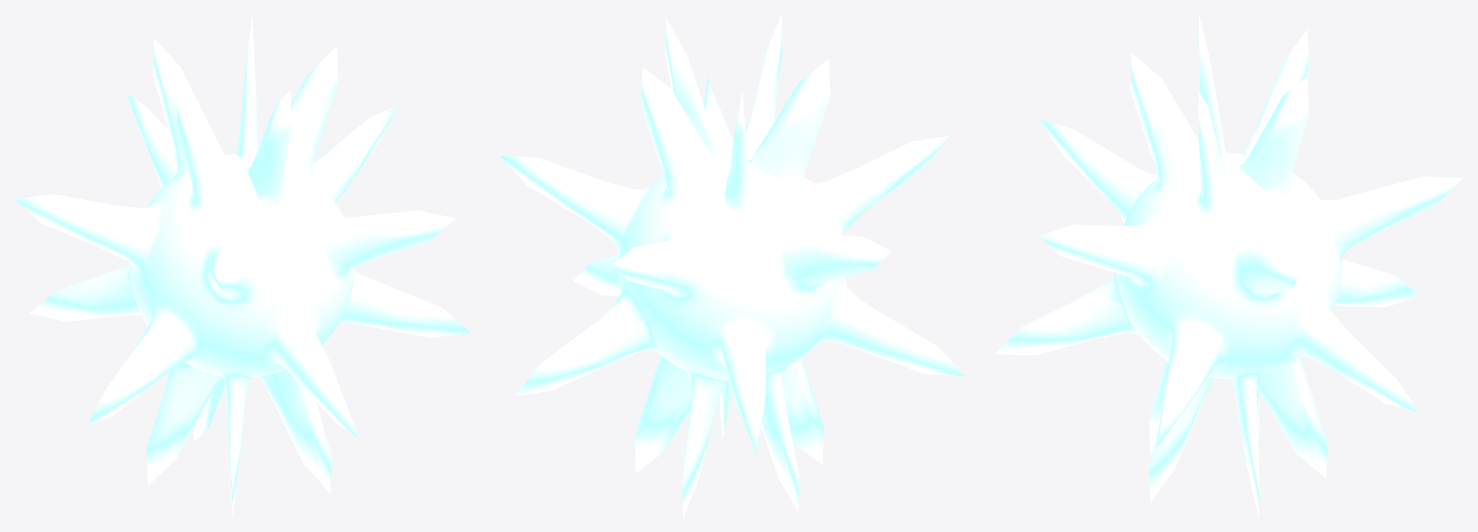
File: spark.gltf
3 views of the same model, side by side, from view 1: azimuth 30°, elevation 25°; view 2: azimuth 150°, elevation 25°; view 3: azimuth 270°, elevation 25° (orthographic). The views are drawn at different scales.
Visible parts, largest first — view 1: spark; view 2: spark; view 3: spark.
Part boxes in pixels (left/top/right/bottom): spark: left=15, top=15, right=469, bottom=516; spark: left=500, top=14, right=964, bottom=517; spark: left=994, top=15, right=1463, bottom=516.
Bounding box in the file's own units: 0.1582 × 0.1663 × 0.1663.
